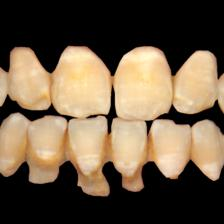cavity: (30, 155, 59, 184), (78, 172, 111, 196), (121, 173, 146, 192), (145, 131, 158, 163), (104, 133, 115, 165), (62, 130, 72, 162), (21, 96, 52, 106), (22, 137, 32, 163), (46, 73, 54, 101), (171, 75, 178, 105), (4, 157, 16, 173), (188, 142, 198, 160)
tooth: (116, 45, 173, 119), (55, 45, 112, 116), (67, 117, 113, 197), (108, 118, 153, 192), (9, 45, 53, 111), (30, 114, 69, 185), (148, 120, 191, 182), (177, 49, 217, 115), (193, 118, 224, 181), (1, 113, 27, 179)
